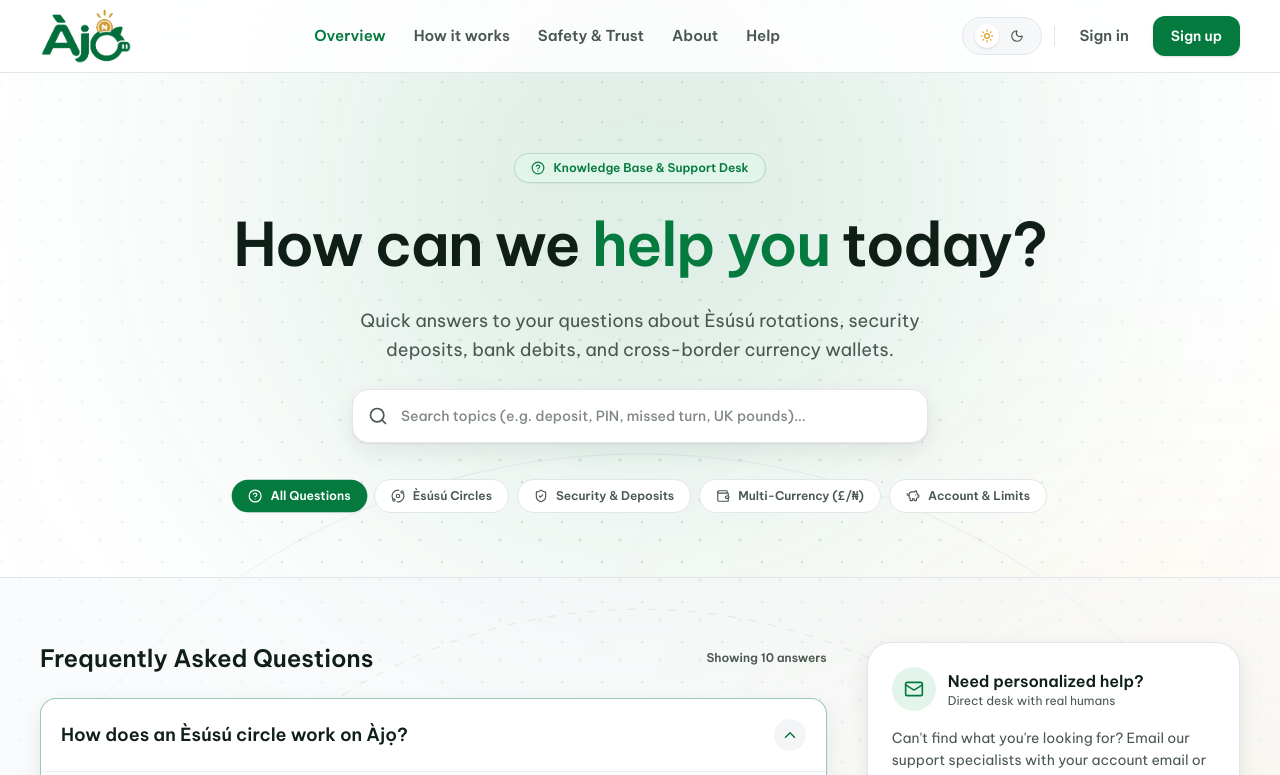
Test: PublicHelpCenter › filters questions by category when clicking category tabs
Step 1. Click the tab "Multi-Currency (£/₦)" → (790, 496), box [699, 478, 881, 512]
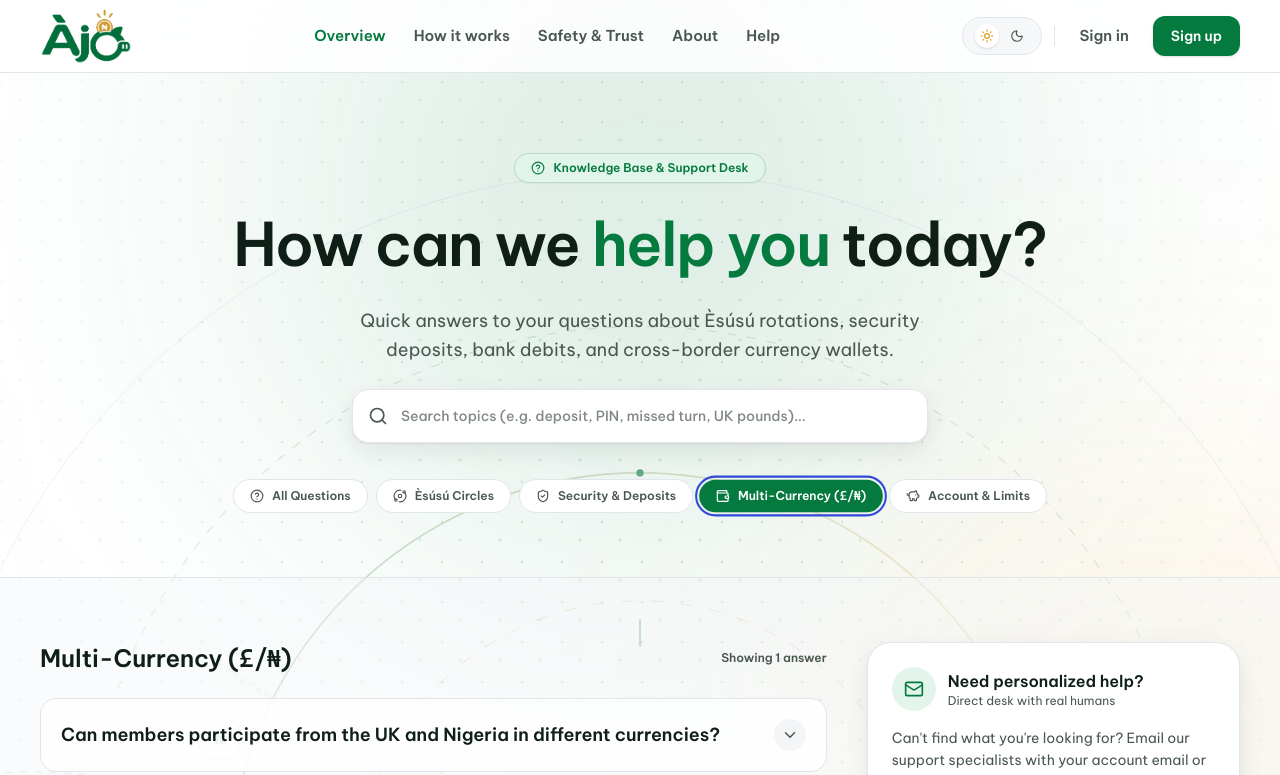
Check: the text "Can members participate from the UK and Nigeria in different currencies?" is shown, box [61, 720, 720, 748]
Check: the button "How does an Èsúsú circle work on Àjọ?" is gone
